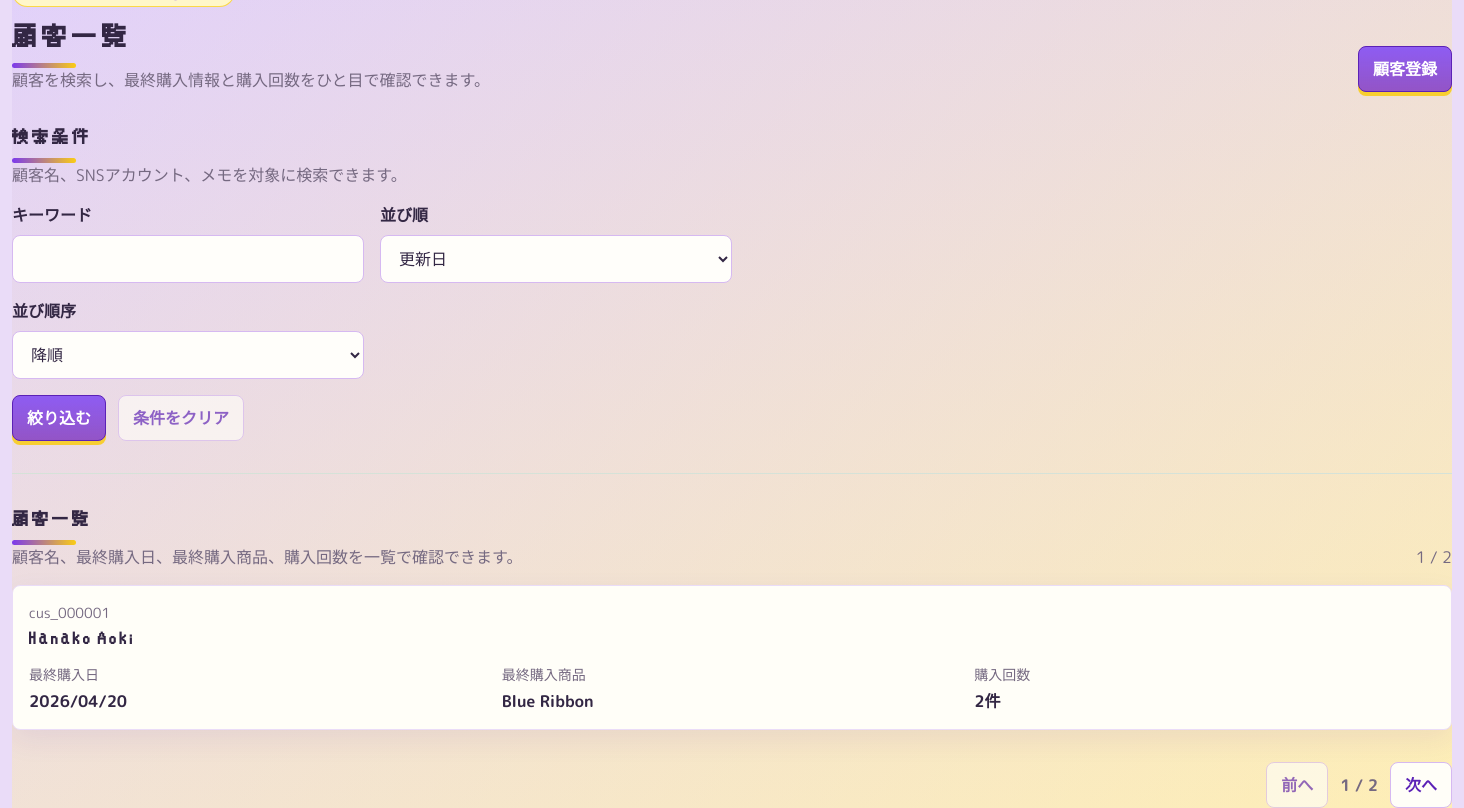
Test: CustomerListPage › moves between pages with the pagination controls
This screenshot has width=1464, height=808.
(page scrolled)
Expected: the list item is shown, [12, 585, 1452, 730]
Click the button "次へ": (1421,785) [1390, 762, 1452, 807]
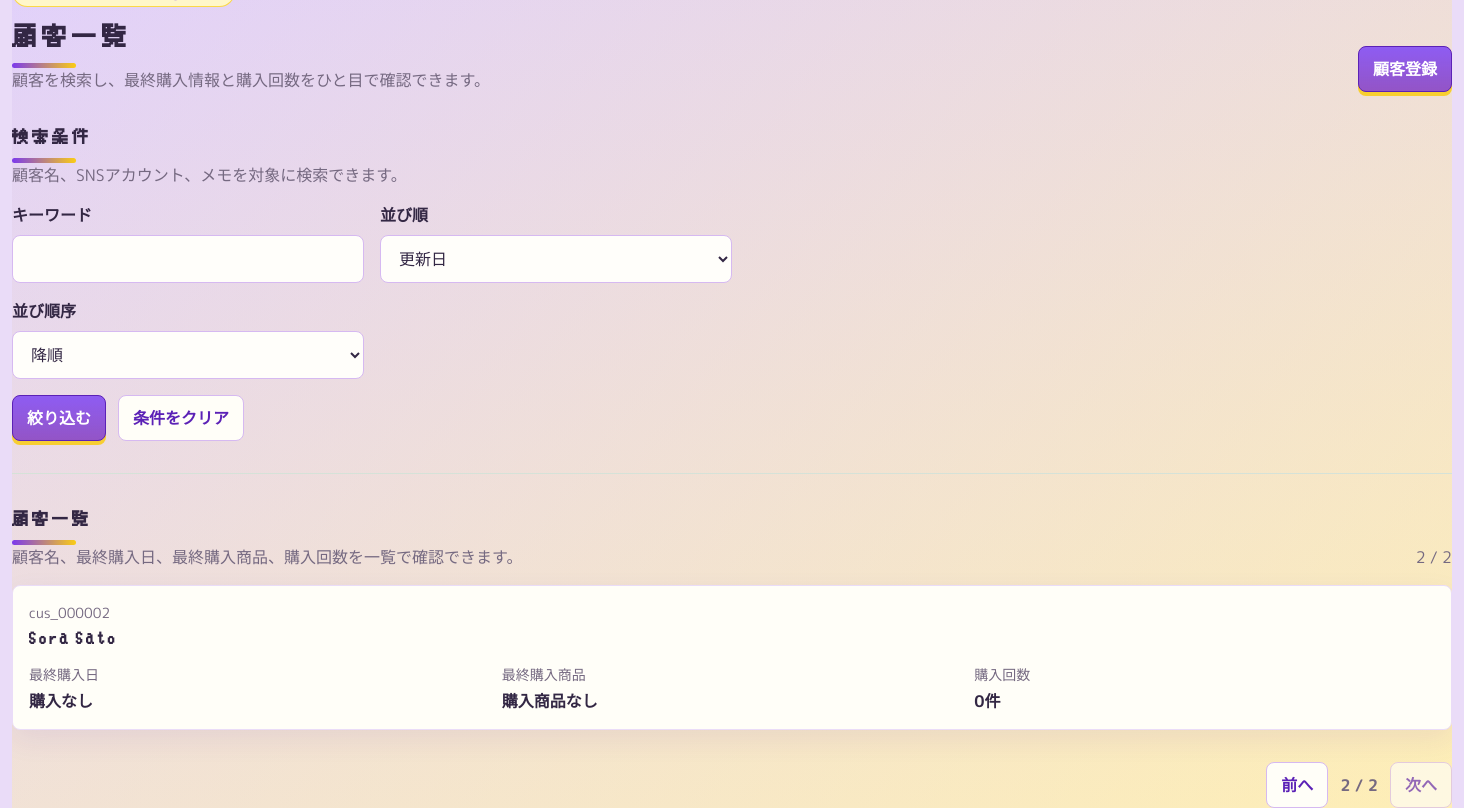
Now the heading "Sora Sato" is shown, box [29, 627, 118, 650]
Now the text "購入なし" is shown, box [29, 690, 93, 712]
Now the text "購入商品なし" is shown, box [502, 690, 598, 712]
